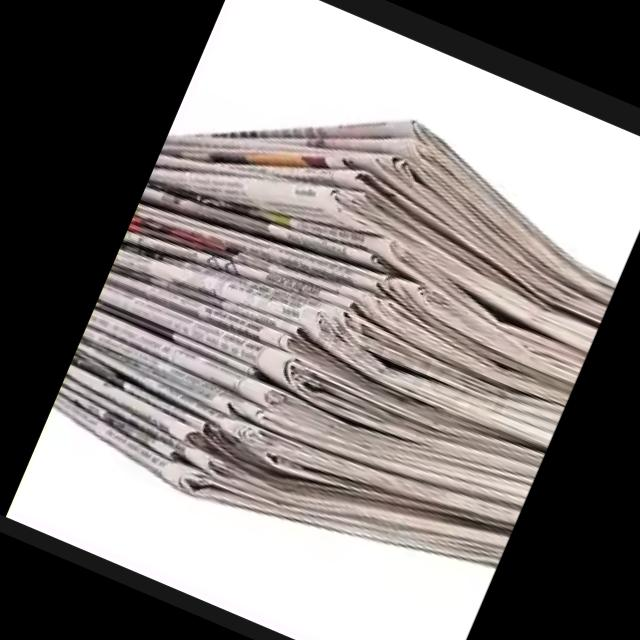Koran: (41, 30, 640, 617)
